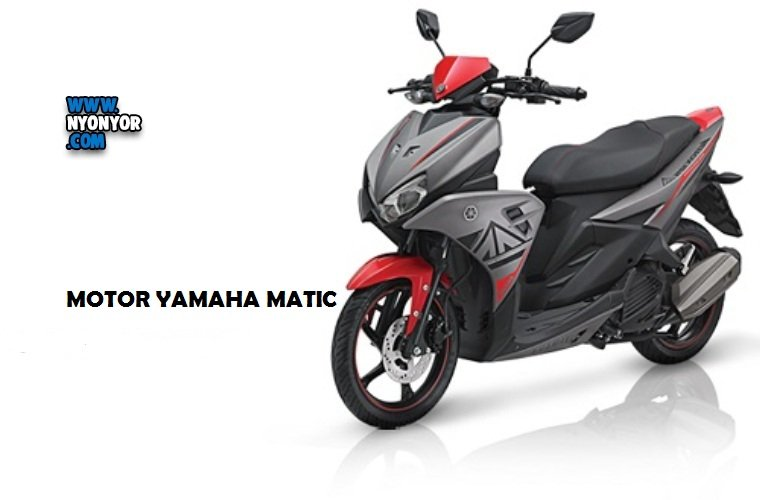motor: (339, 63, 726, 413)
